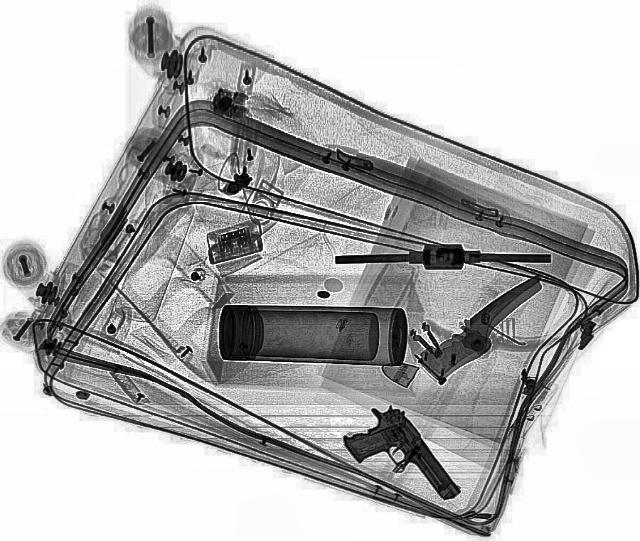Gun: (330, 397, 462, 519)
